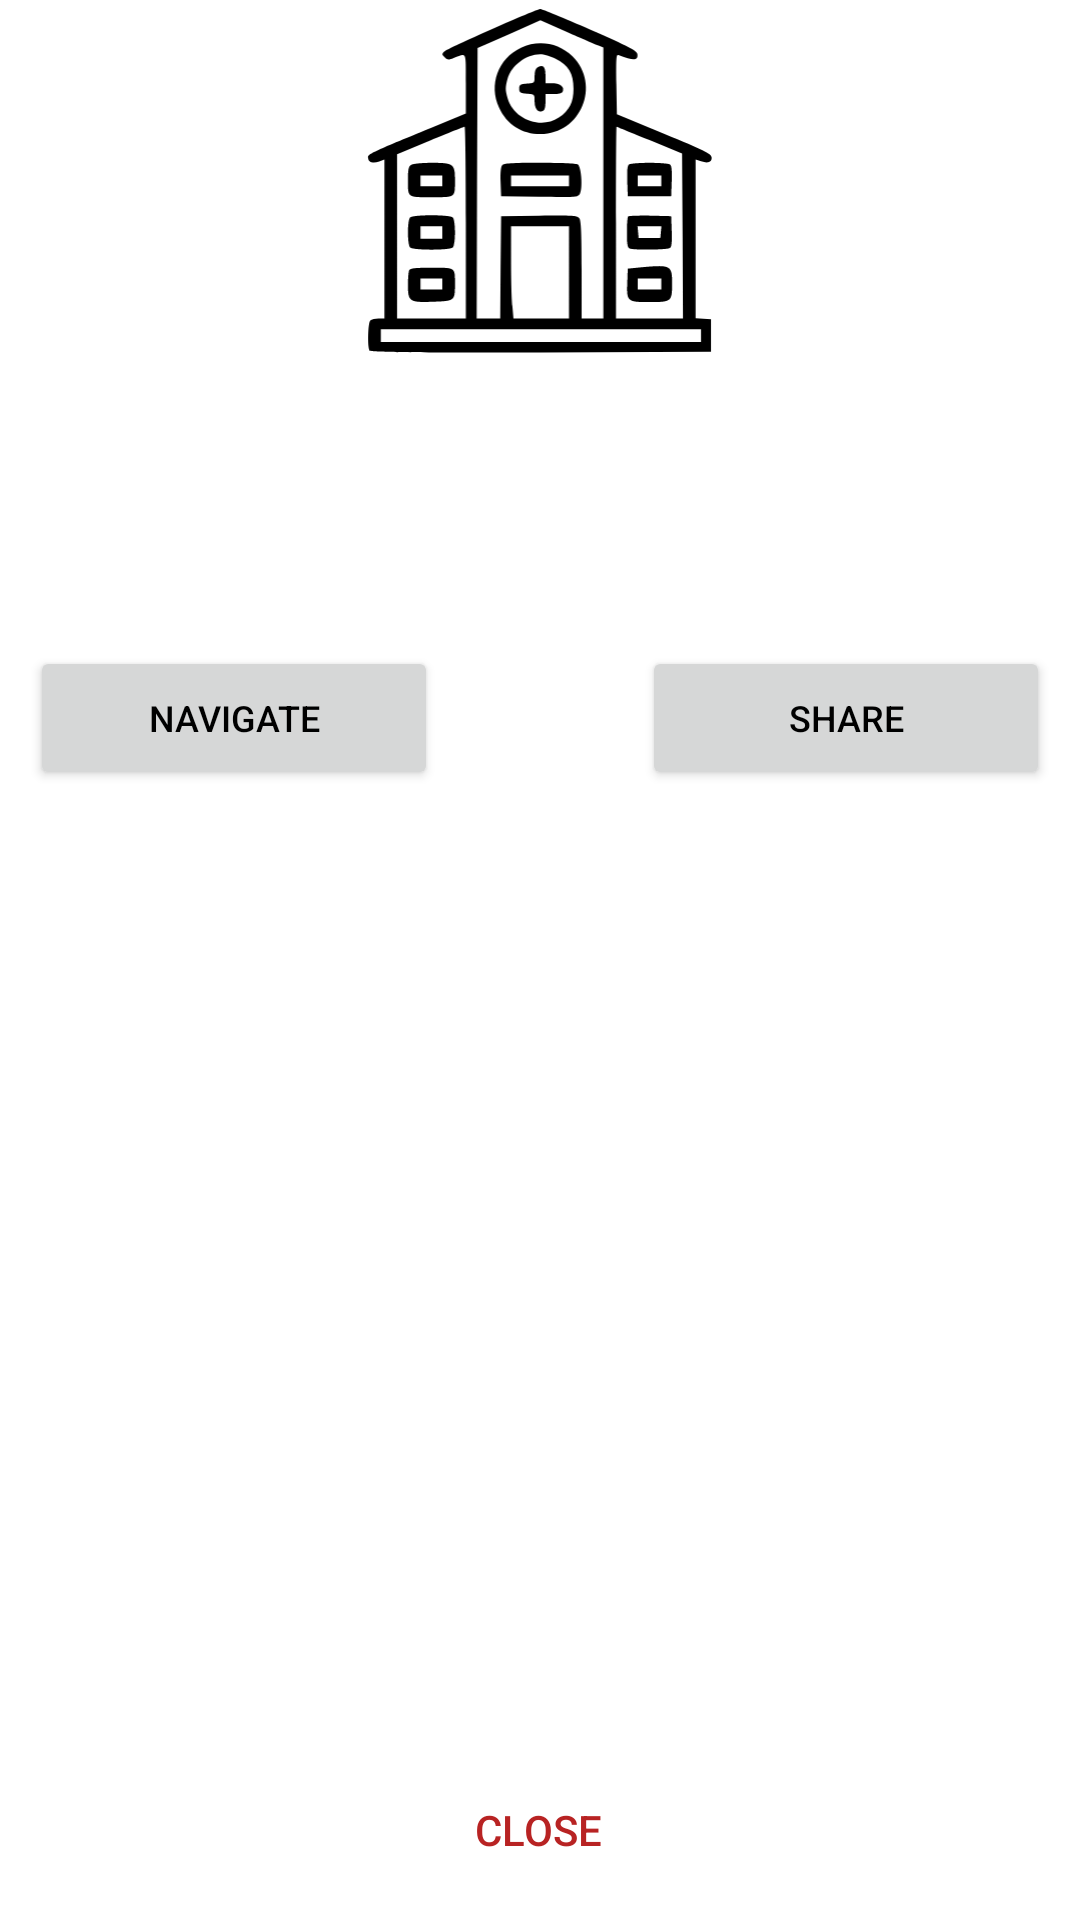

Point at icon controls on the screen. Image size 1080 x 1920, points as [x,y].
hospital menu: [540,181]
